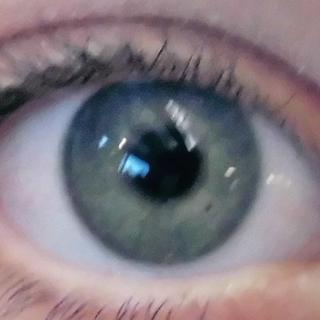pupil: (132, 129, 200, 198)
